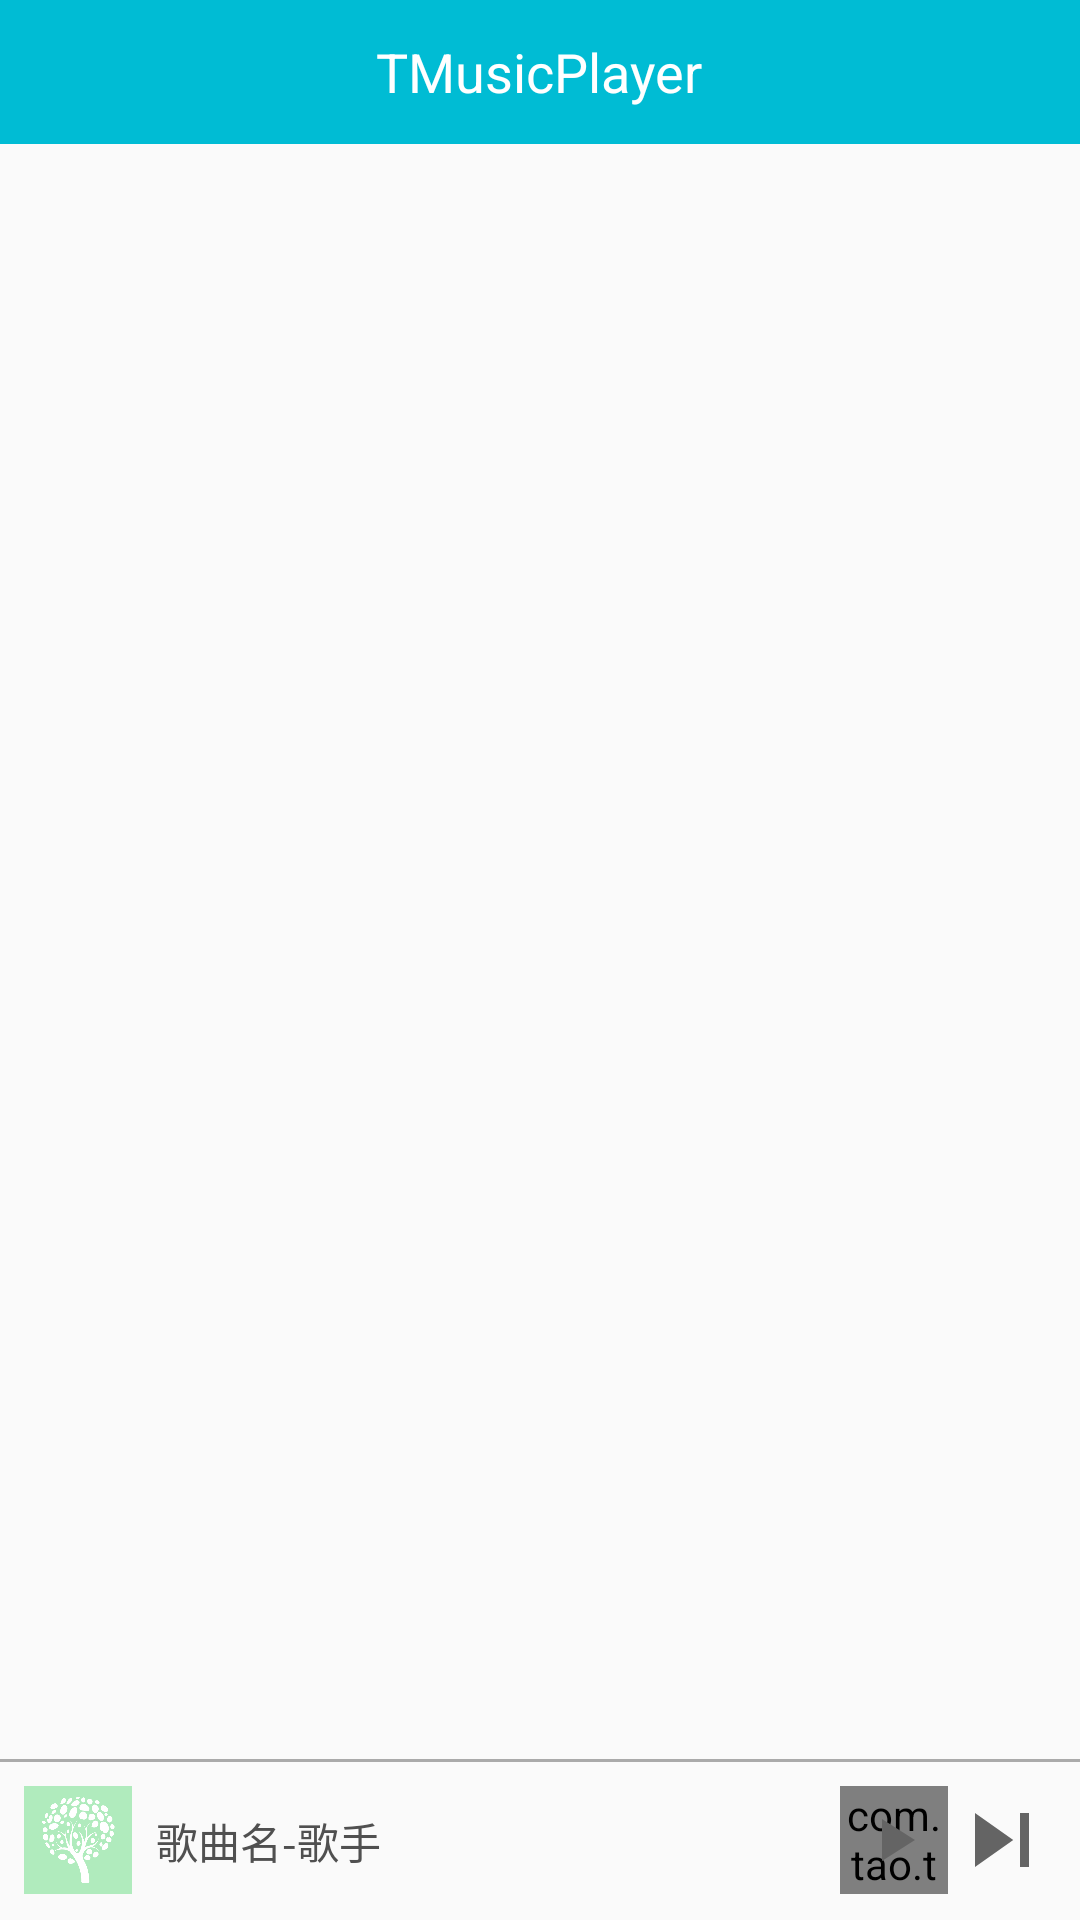

Named icons in this screenshot (1080*1920) and their centers, (x=x, y=y):
skip next: (x=1002, y=1840)
